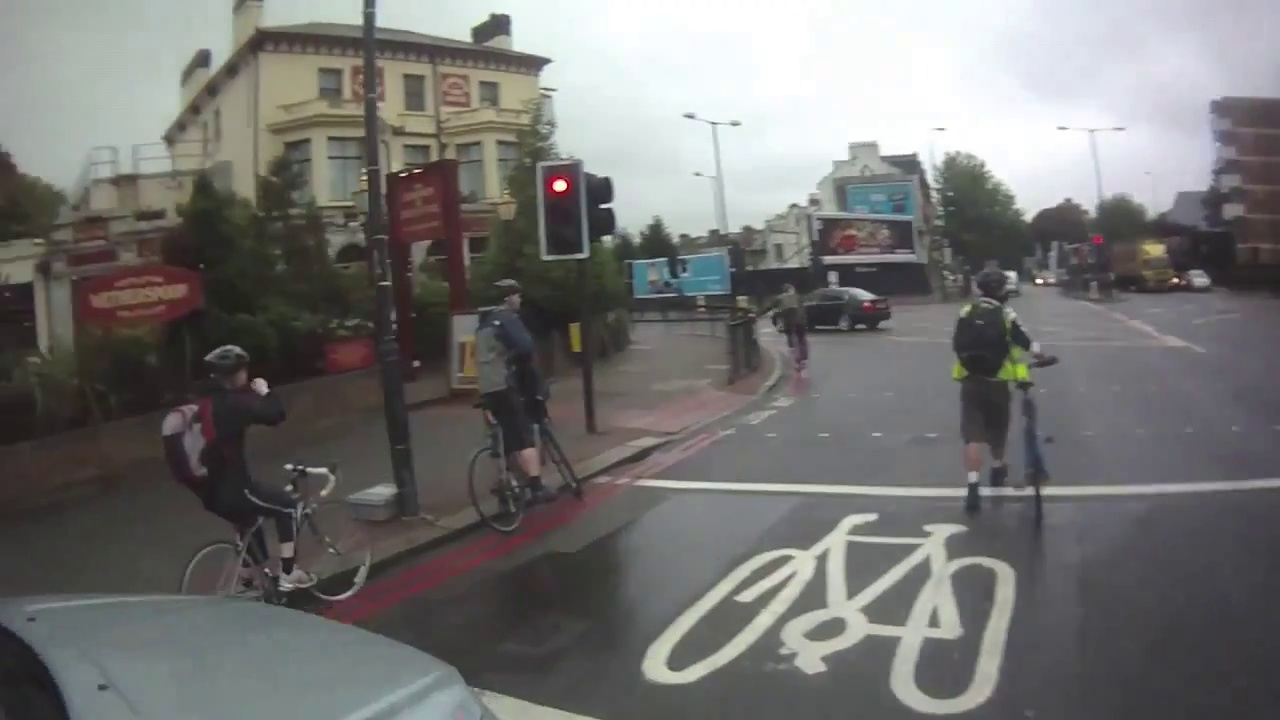cyclist_back: (939, 265, 1072, 535), (457, 273, 588, 531), (769, 286, 820, 384)
cyclist_side: (147, 337, 383, 603)
